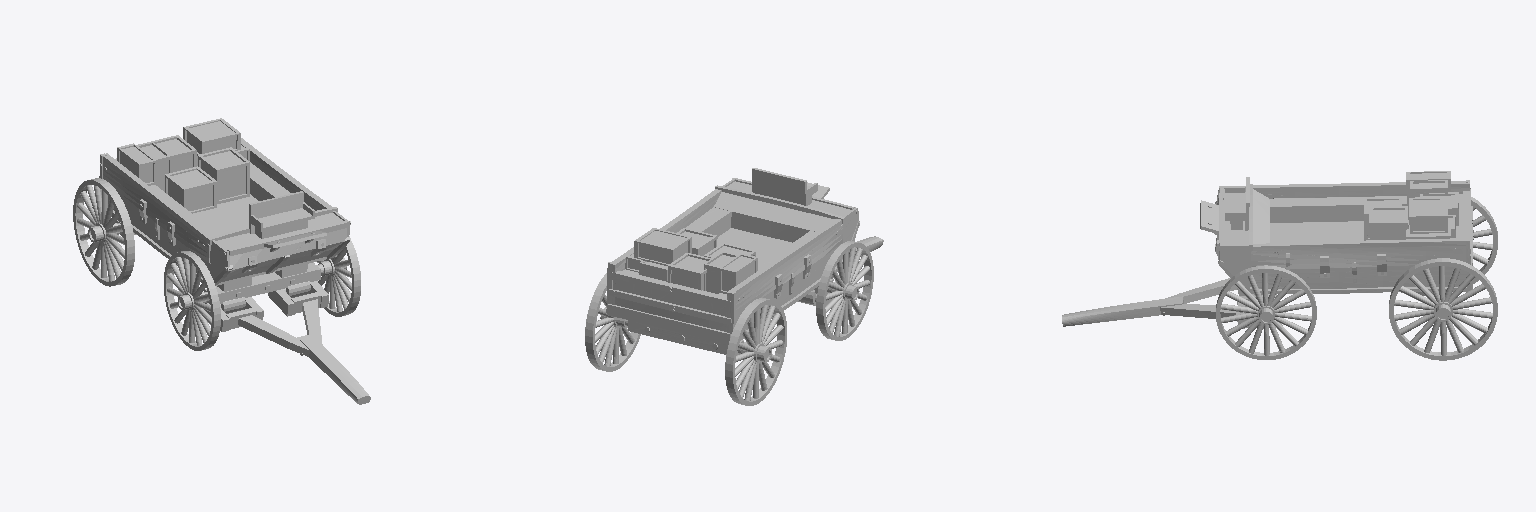
Rendered from cart.obj.
The picture shows the model from 3 angles: view 1: azimuth 30°, elevation 25°; view 2: azimuth 150°, elevation 25°; view 3: azimuth 270°, elevation 25°; orthographic projection.
Parts seen in each view (by area): view 1: Wagon; view 2: Wagon; view 3: Wagon.
Boxes of the visible parts, x1,y1,x2,y2 form: Wagon: [73, 118, 370, 404]; Wagon: [585, 168, 883, 405]; Wagon: [1062, 171, 1497, 360].
Bounding box in the file's own units: 38.14 × 30.49 × 87.92.